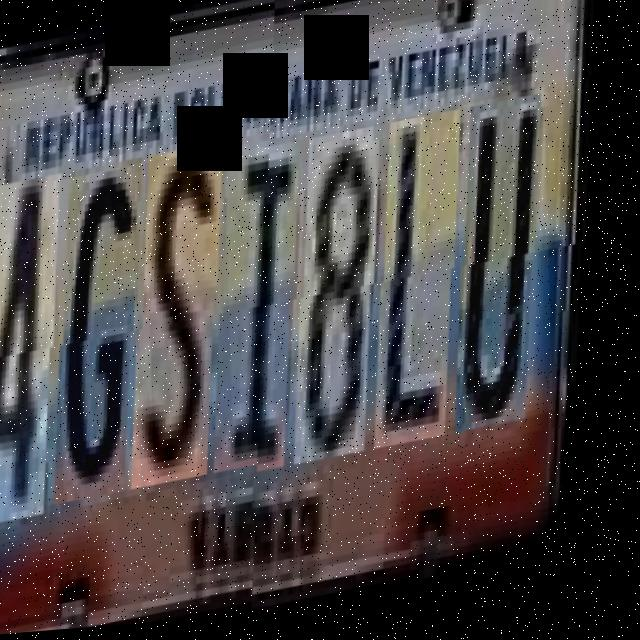4: (0, 177, 116, 536)
8: (269, 125, 432, 471)
G: (31, 162, 195, 516)
I: (189, 139, 352, 487)
L: (350, 110, 512, 456)
S: (108, 147, 275, 501)
U: (430, 94, 592, 442)
